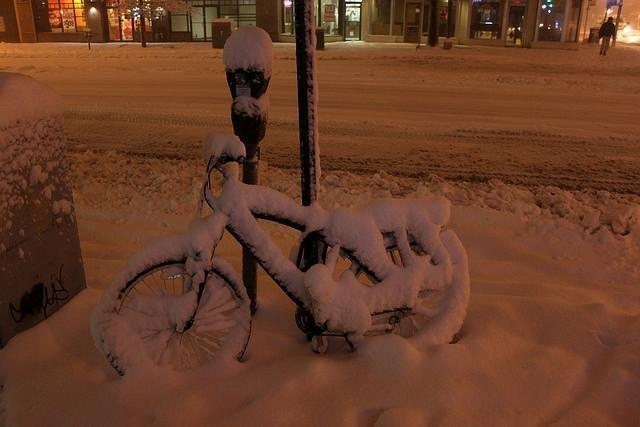bicycle: (89, 127, 471, 379)
